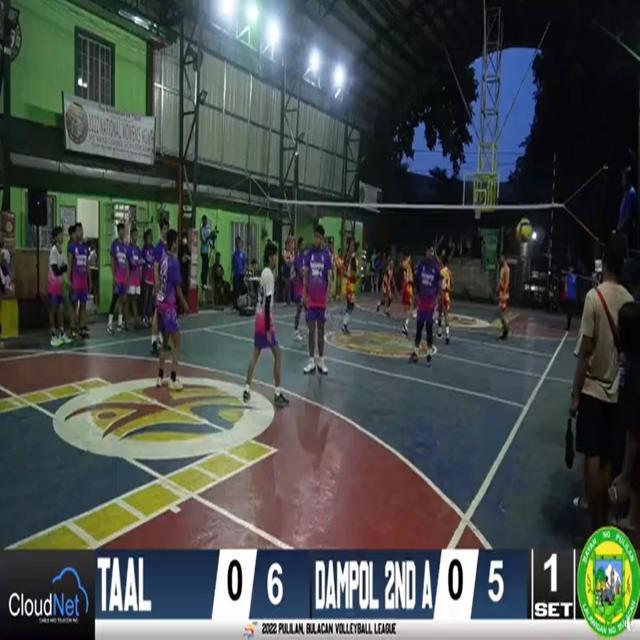volleyball: (516, 216, 532, 242)
